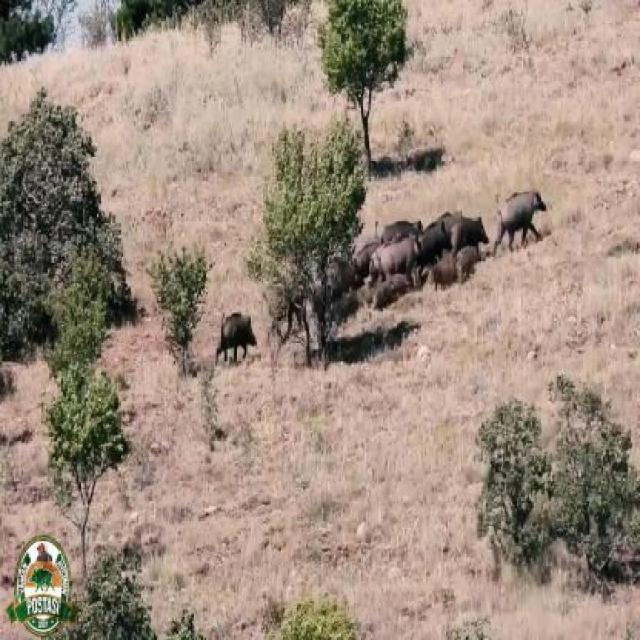pig: (492, 180, 561, 275), (218, 308, 268, 373), (446, 211, 491, 264), (369, 228, 420, 274)
